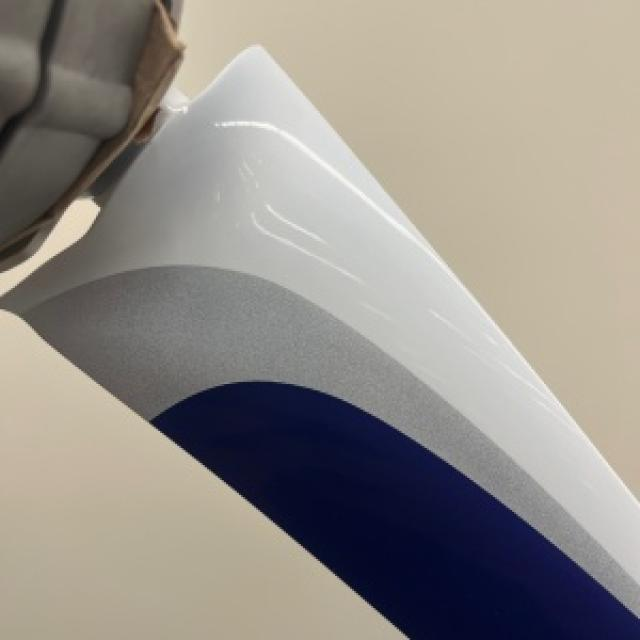healthy: (173, 0, 638, 493), (0, 311, 401, 638)
